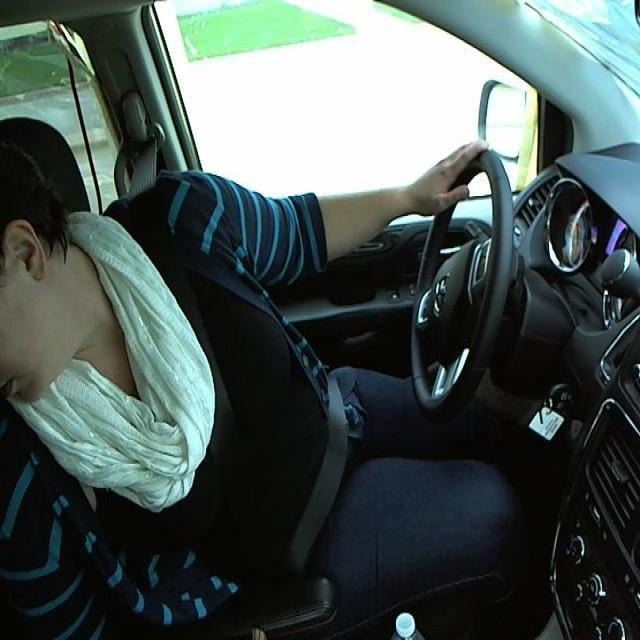seatbelt: (143, 227, 351, 541)
